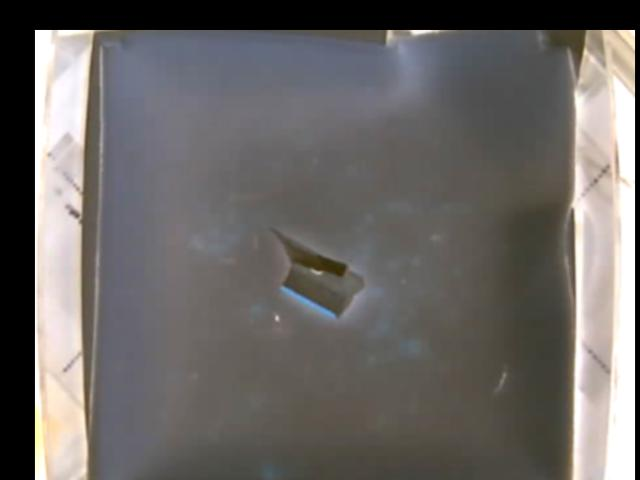China: (266, 224, 364, 318)
